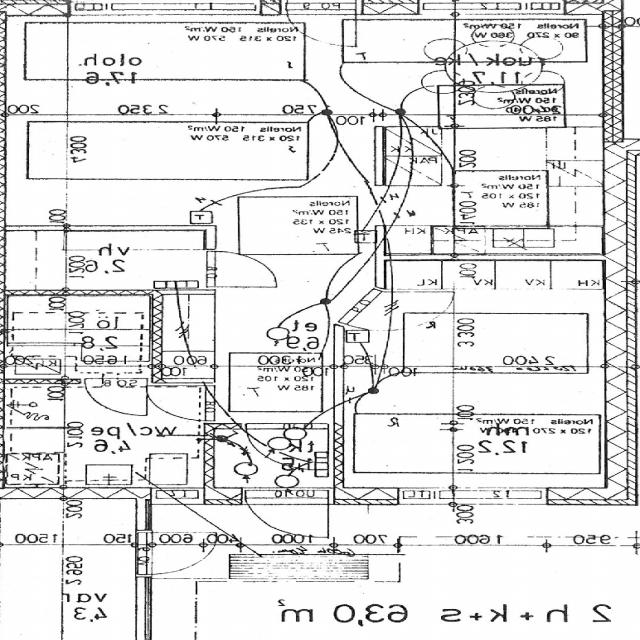door: (338, 289, 446, 343), (246, 488, 329, 548), (136, 532, 230, 574), (247, 424, 328, 472), (287, 0, 356, 51), (138, 386, 214, 420), (205, 252, 280, 286), (86, 379, 148, 416)
